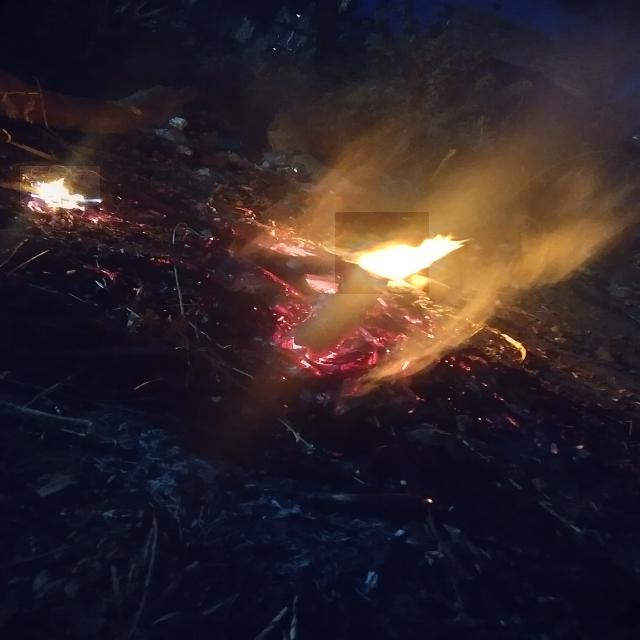Fire: (335, 212, 429, 294), (20, 166, 100, 206)
